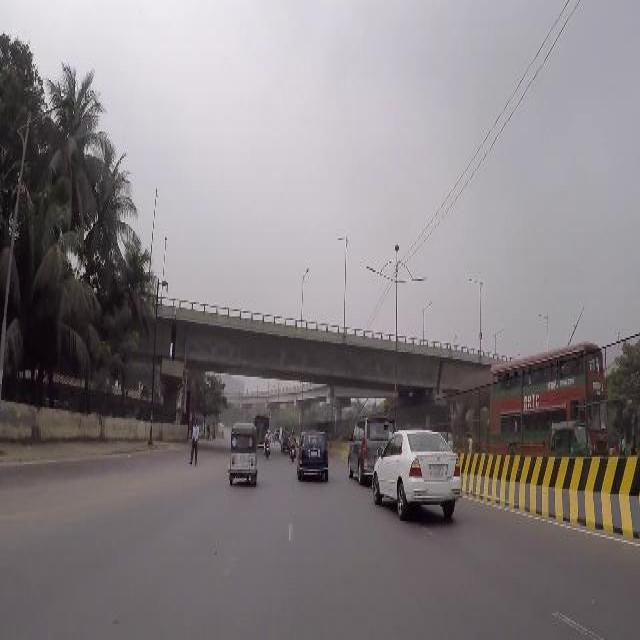bike: (289, 430, 297, 462), (264, 430, 271, 457)
vehicle: (490, 343, 609, 453), (372, 429, 465, 519), (348, 417, 394, 481), (229, 424, 259, 486), (299, 432, 330, 480), (550, 423, 591, 457), (255, 416, 269, 446), (281, 426, 294, 451)
